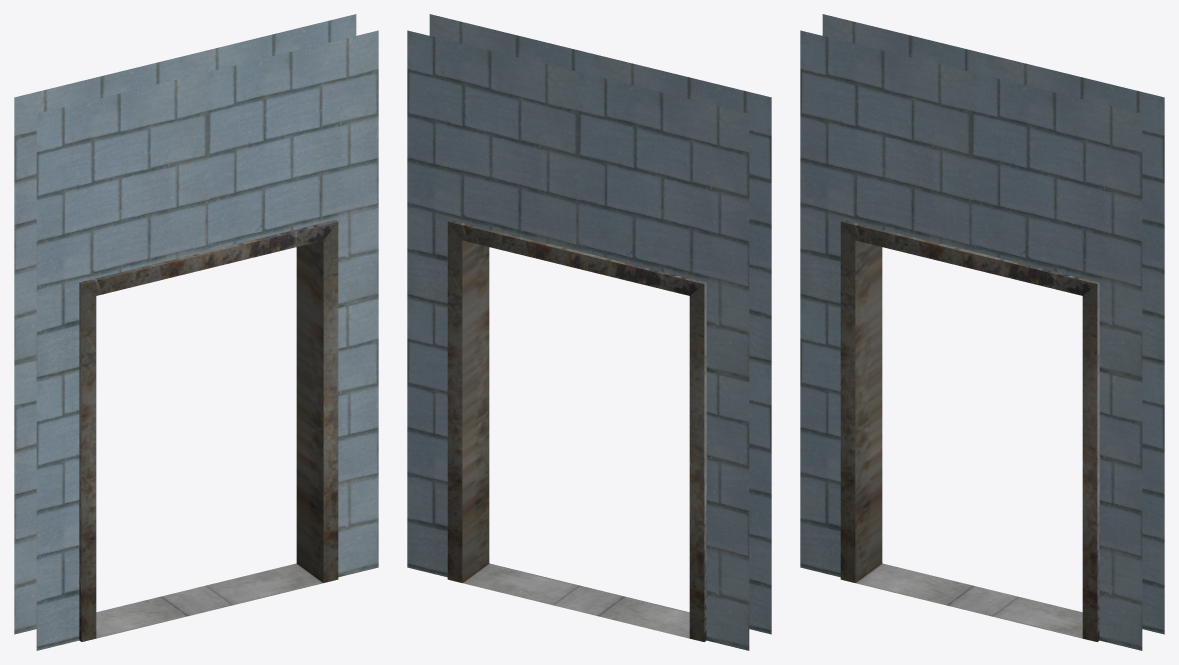
The model's file is MarcoPuerta.fbx.
3 renders of one model, left to right at view 1: azimuth 30°, elevation 25°; view 2: azimuth 150°, elevation 25°; view 3: azimuth 330°, elevation 25°, orthographic.
Parts seen in each view (by area): view 1: Plane.001; view 2: Plane.001; view 3: Plane.001.
Part boxes in pixels (x1,y1,x2,y2): Plane.001: (14,14,378,650); Plane.001: (407,14,771,650); Plane.001: (800,14,1164,650).
Bounding box in the file's own units: 4 × 6 × 0.5463.
